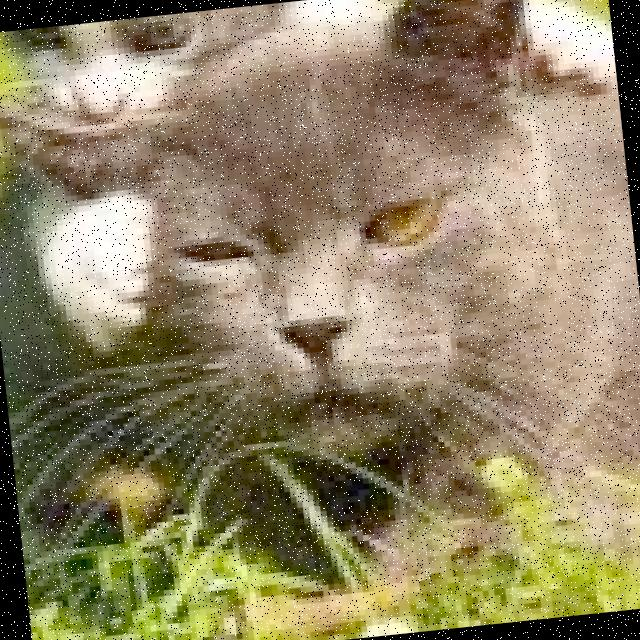Sad: (108, 138, 513, 476)
